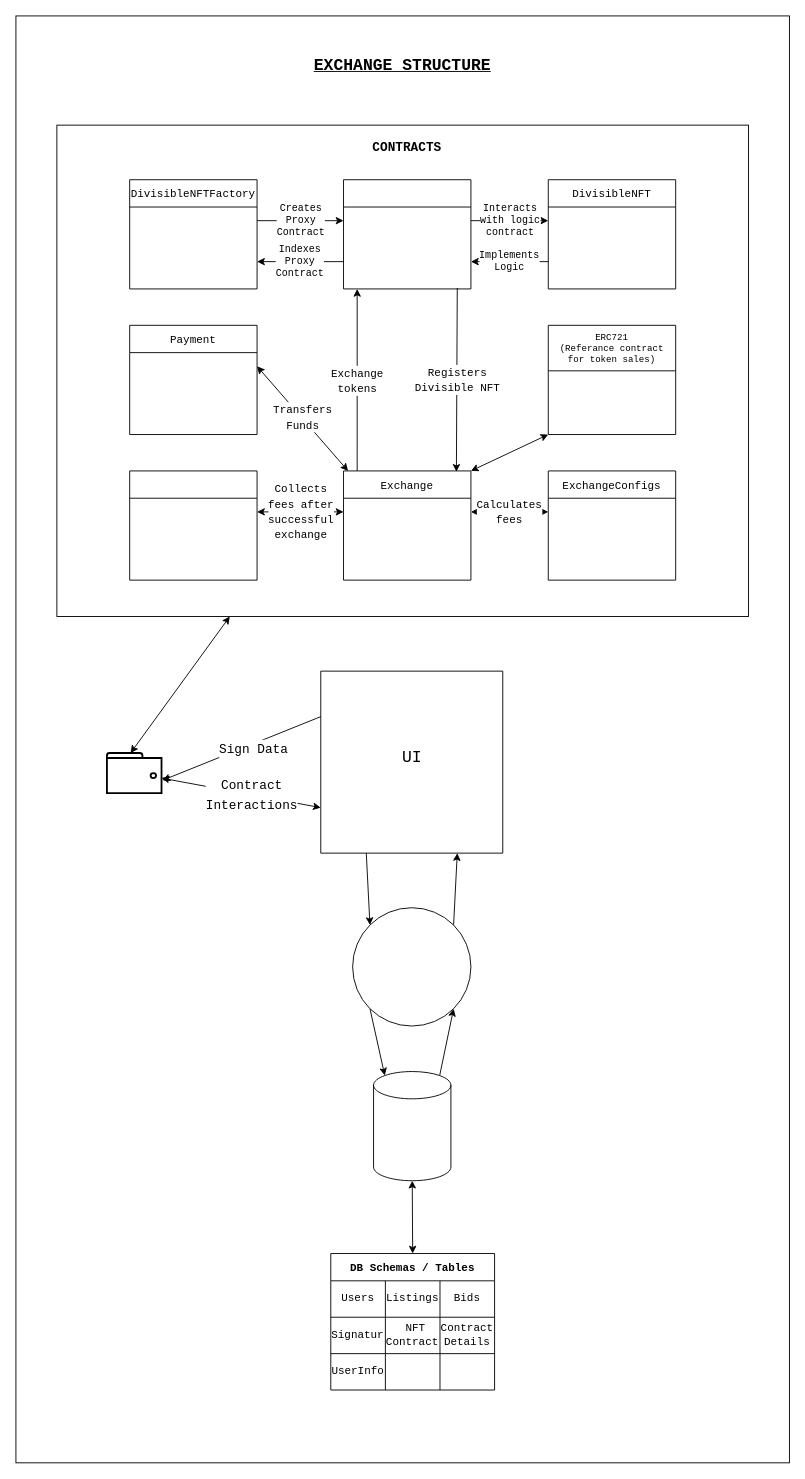
Image size: 805x1479. Some labels were removed from this diagram. The centre of each missing label's shape, as x and y in pixels:
Backend Server: (x=411, y=966)
DB: (x=412, y=1126)
DivisibleNFTProxy: (x=407, y=234)
FeeCollector: (x=193, y=525)
